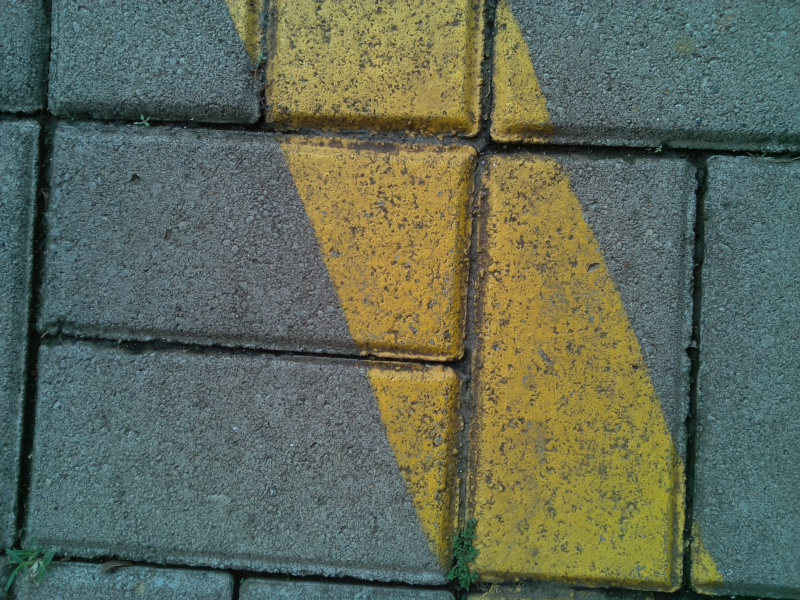Weed: (436, 512, 489, 593), (2, 536, 66, 593), (749, 140, 798, 173), (124, 107, 155, 134), (649, 141, 671, 162)
